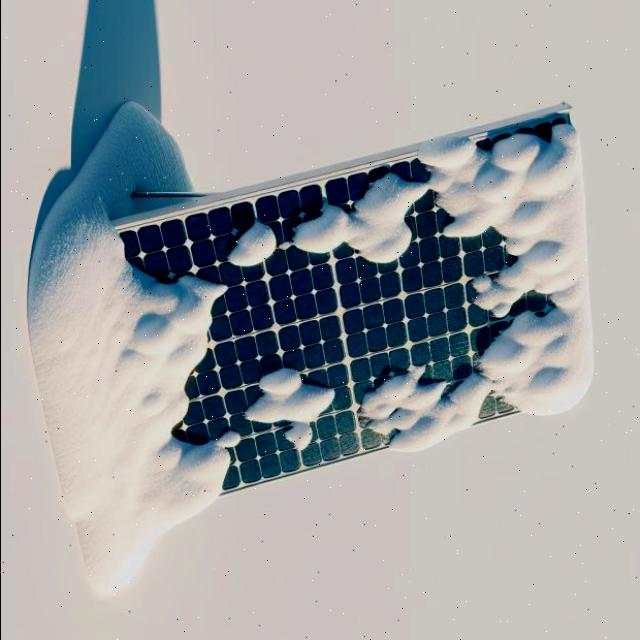Anomaly Solar Panel: (52, 107, 640, 519)
Snow: (279, 108, 640, 467), (17, 184, 252, 599), (241, 356, 338, 454), (226, 215, 286, 280)
